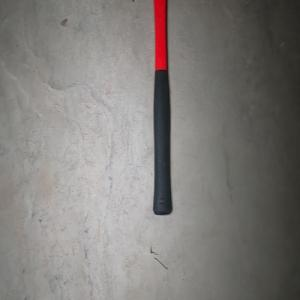Hammer: (132, 0, 190, 216)
